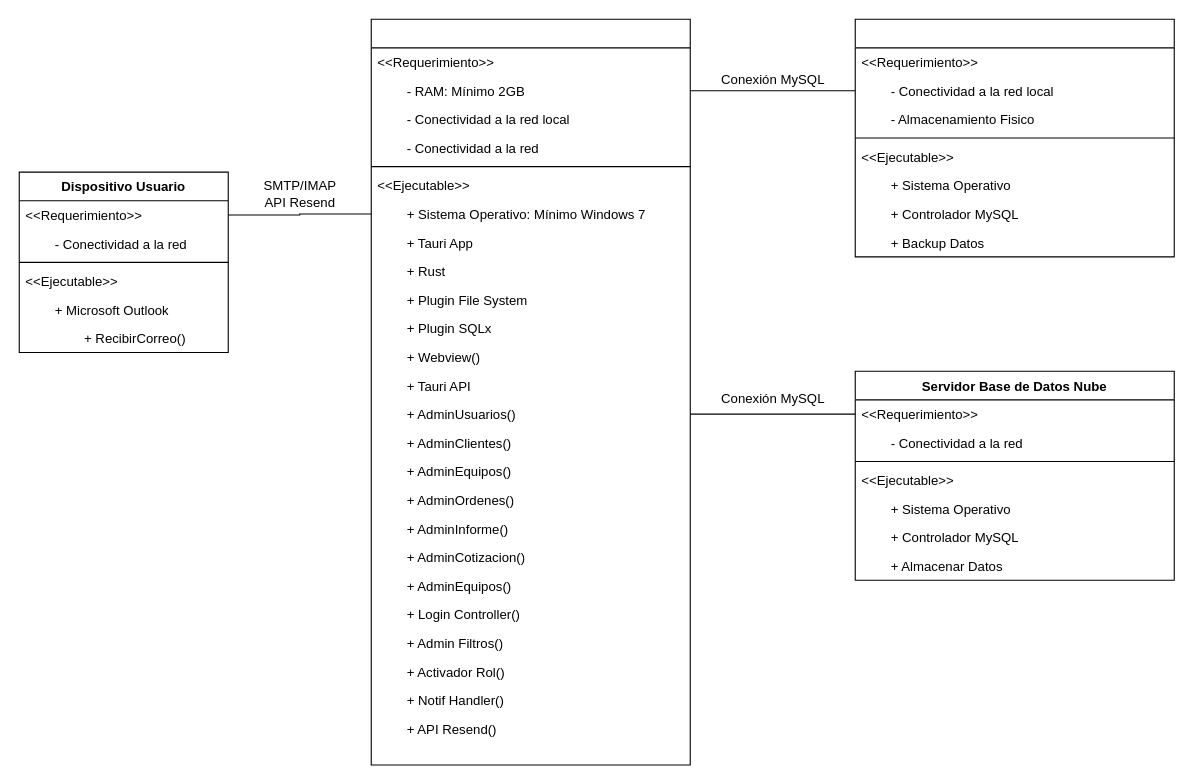
The diagram is 1194 pixels wide and 784 high, and some of its shapes have lost their labels. Each missing label, with the box of its shape:
PC Usuario: (370, 18, 690, 765)
Servidor Base de Datos Local: (854, 18, 1174, 257)
